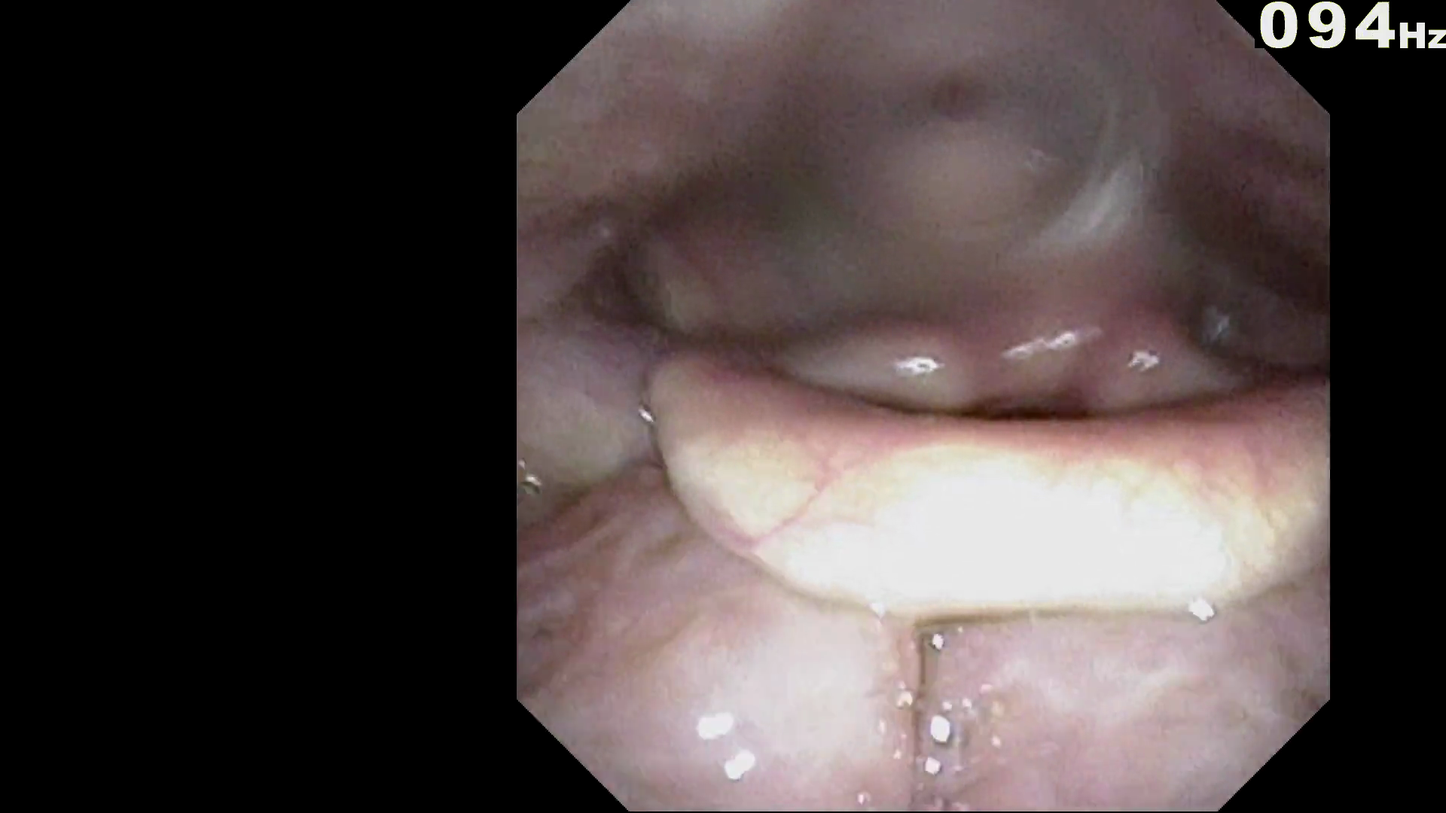epiglottis: (699, 438, 1308, 663)
